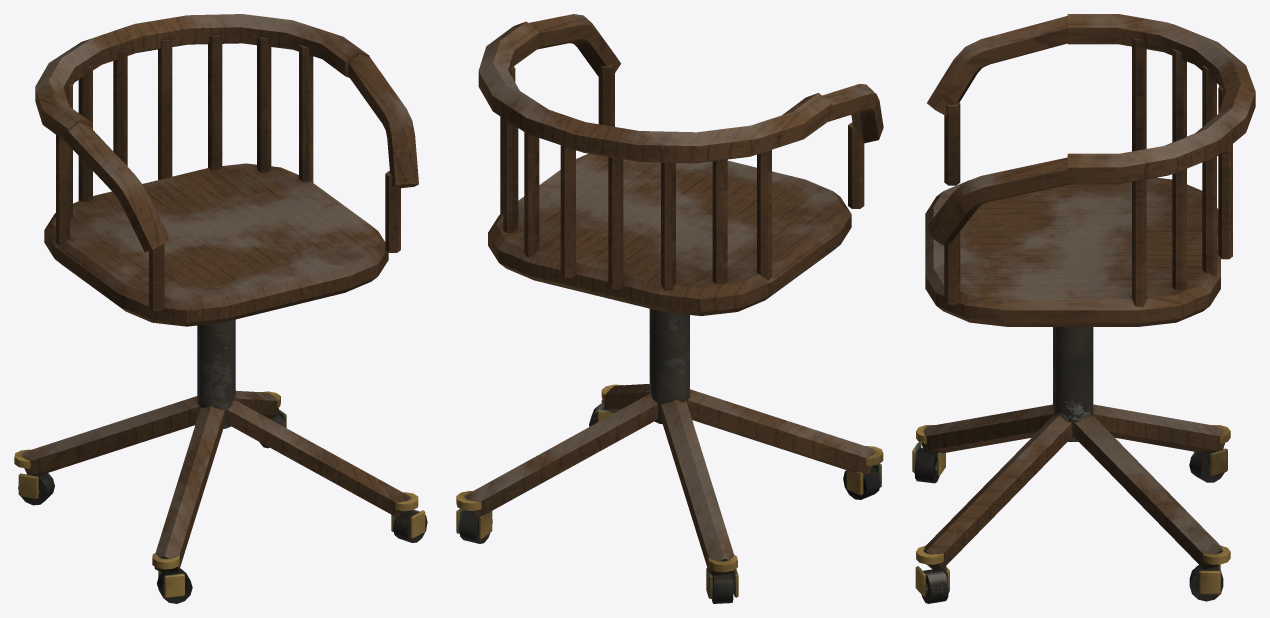
Rendered from DeskChair.fbx.
The picture shows the model from 3 angles, left to right: view 1: azimuth 30°, elevation 25°; view 2: azimuth 150°, elevation 25°; view 3: azimuth 270°, elevation 25°; orthographic projection. The views are drawn at different scales.
Visible parts, largest first — view 1: DeskChair; view 2: DeskChair; view 3: DeskChair.
Part boxes in pixels (box(x1,y1,x2,y2)): DeskChair: box(14, 14, 427, 603); DeskChair: box(456, 14, 883, 603); DeskChair: box(912, 14, 1255, 603).
Size of the model in its own units: 1.62 by 2.24 by 1.53.
Materials: 1 (1 with a texture image).
